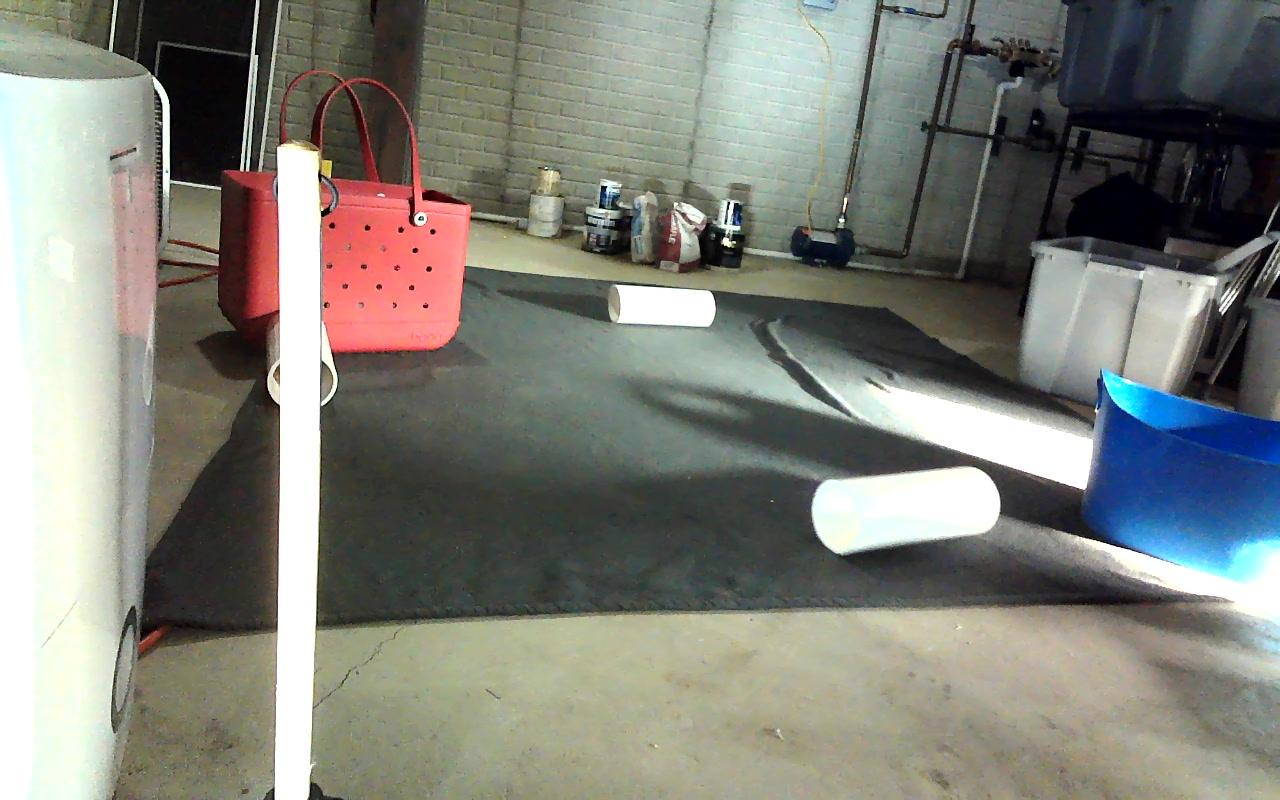coral: (812, 469, 999, 554), (267, 311, 337, 407), (609, 283, 715, 327)
